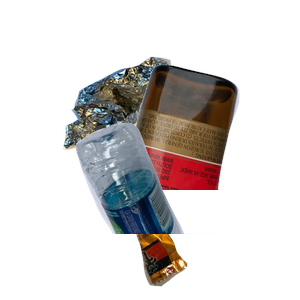glass: (113, 62, 300, 242)
metal: (61, 54, 225, 202)
plastic: (73, 120, 300, 300)
trash: (103, 147, 300, 300)
